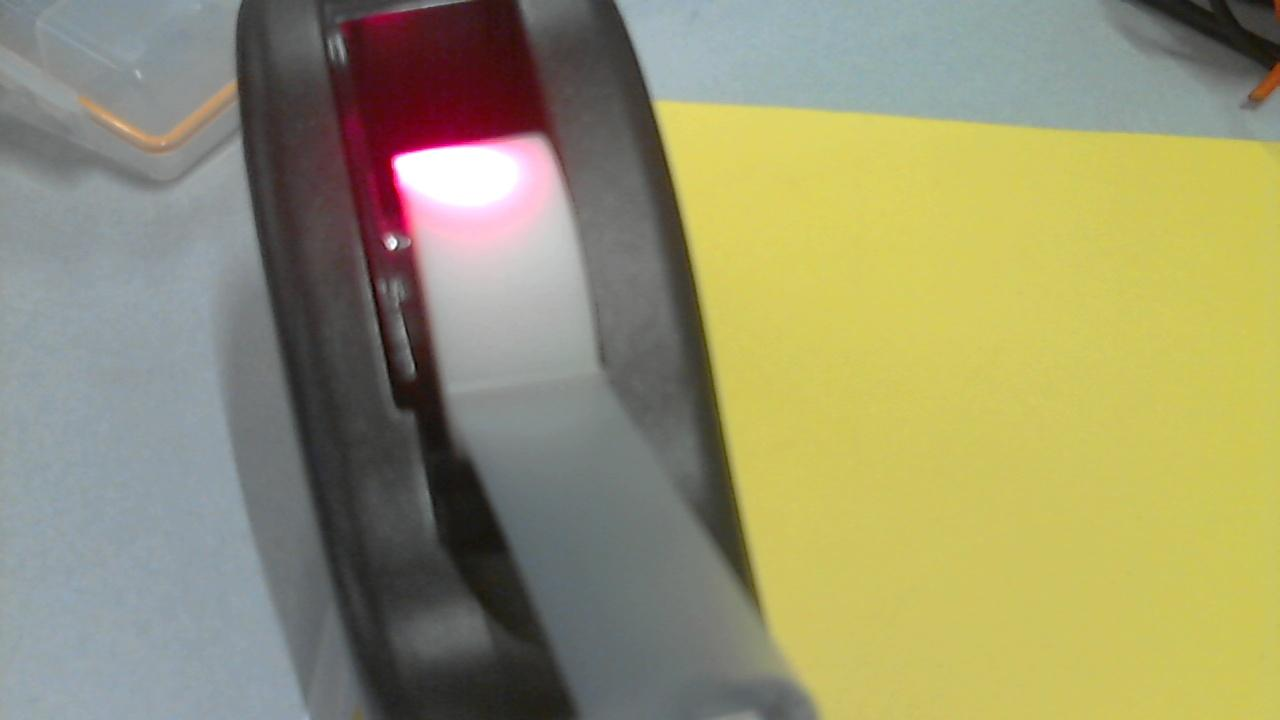Object desktop tape dispenser - Material plastic tape - Pdfname 8pMd29OsIRjD: (382, 133, 561, 242)
